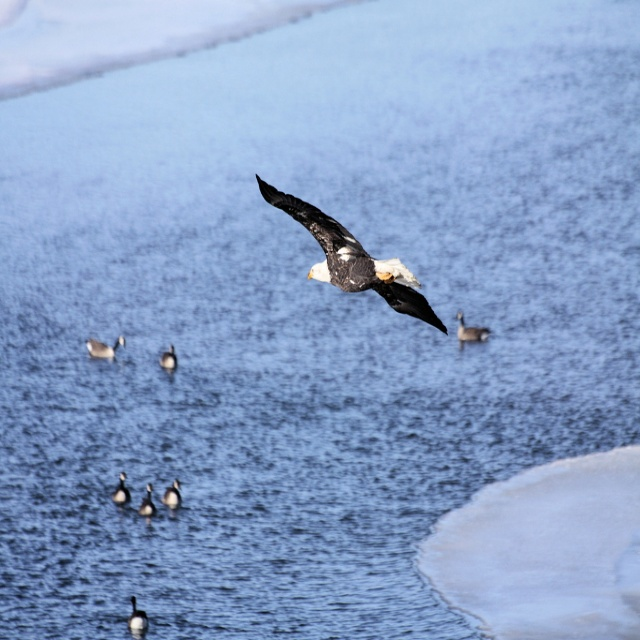Eagle: (256, 174, 447, 332)
